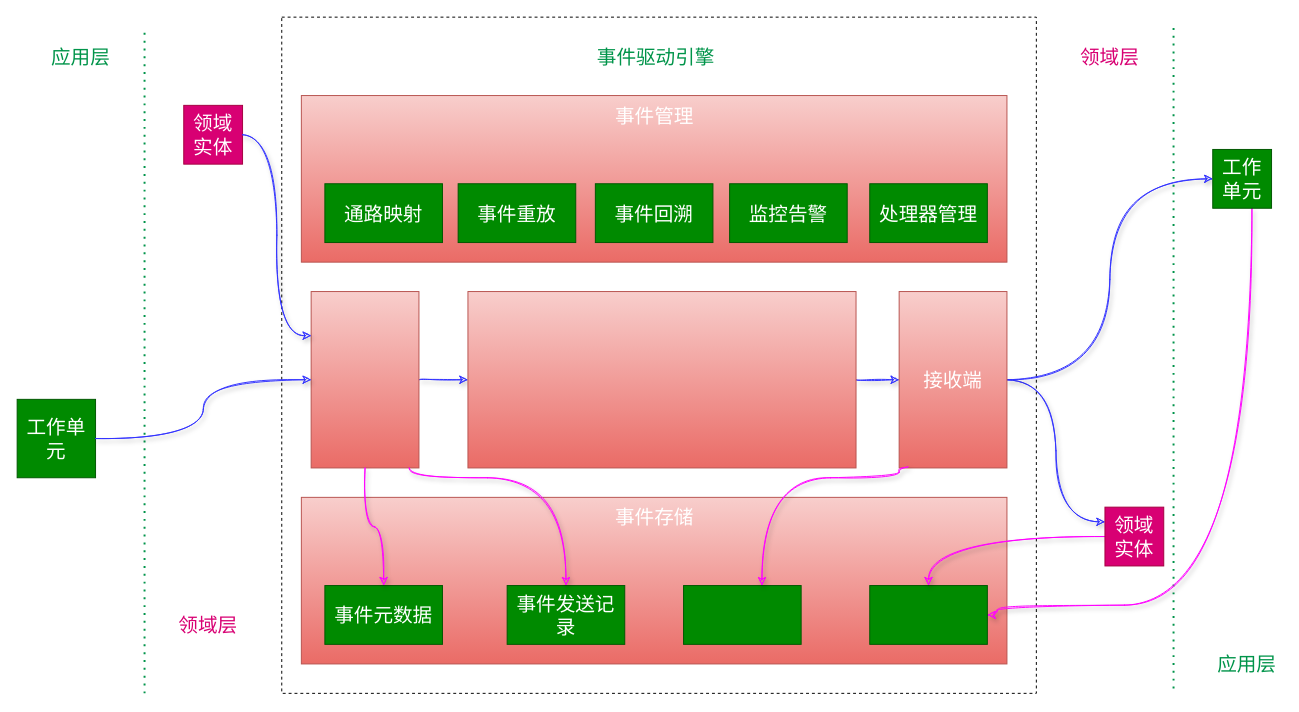
The diagram is 1299 pixels wide and 712 high, and some of its shapes have lost their labels. Each missing label, with the centre of its shape:
事件处理记录: the point at 928,614
事件接收记录: the point at 742,614
事件通道: the point at 661,379
发布端: the point at 364,379
